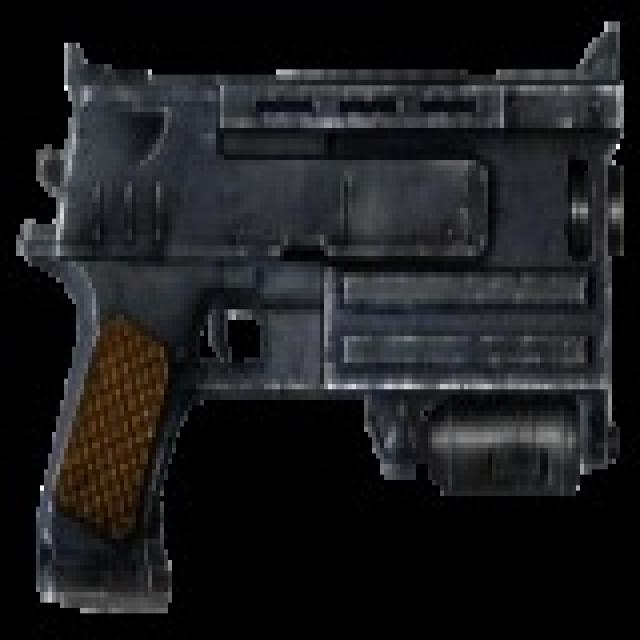Gun: (18, 38, 640, 600)
